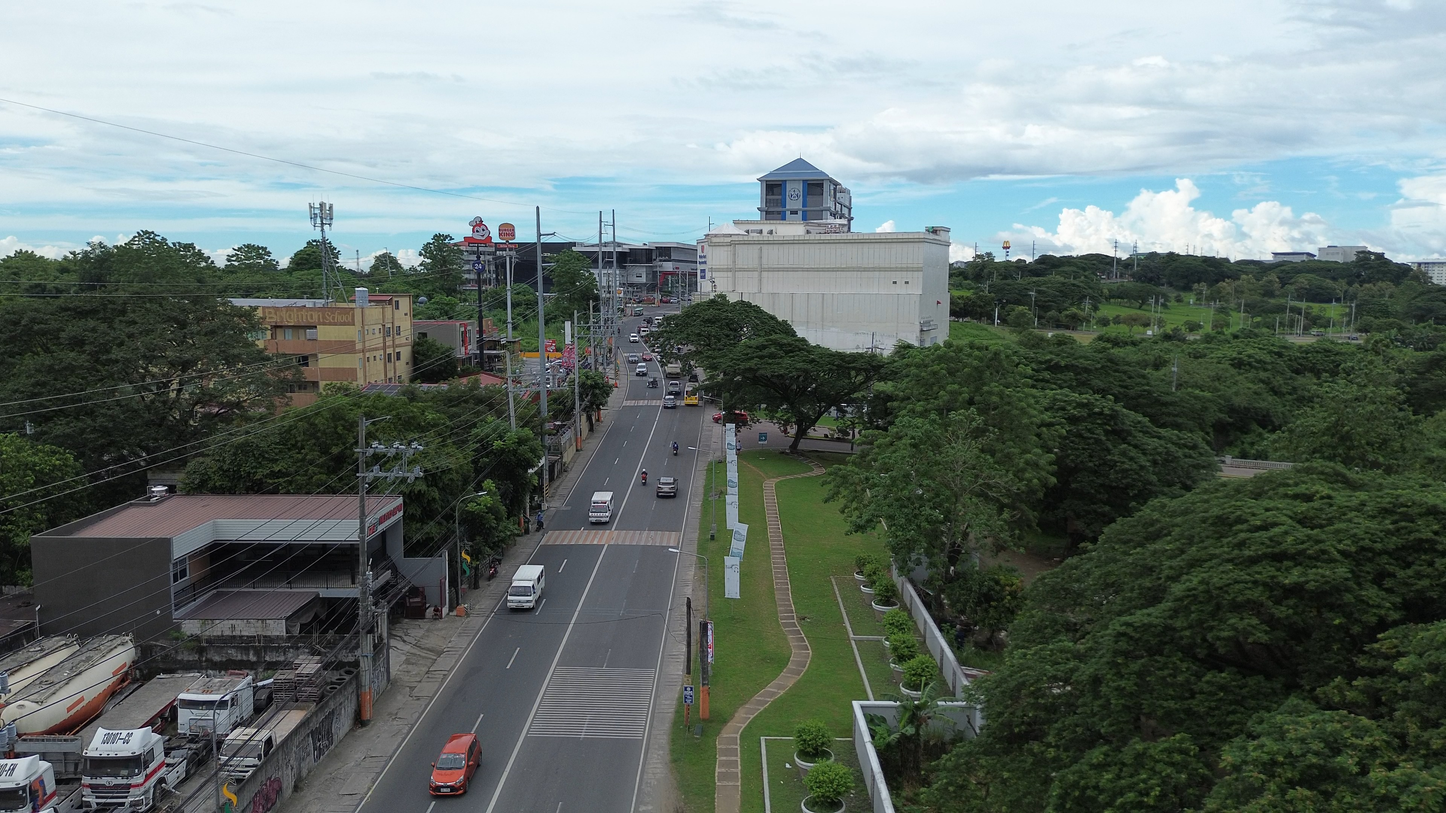car: (429, 734, 480, 795), (712, 411, 749, 424), (635, 364, 648, 376), (627, 353, 642, 363), (641, 352, 653, 361)
motorcycle: (672, 442, 679, 455), (641, 470, 647, 485)
truck: (220, 705, 312, 783)
vehicle: (0, 635, 136, 735), (83, 728, 188, 813), (178, 672, 254, 738), (0, 635, 79, 694), (0, 756, 81, 813), (220, 727, 276, 782), (507, 565, 545, 609), (590, 492, 613, 523), (712, 411, 749, 424), (656, 477, 677, 497), (683, 385, 699, 405), (665, 362, 681, 379), (662, 395, 677, 409), (667, 380, 682, 394), (627, 353, 642, 364), (687, 371, 699, 383), (647, 377, 658, 388), (629, 333, 640, 343), (672, 441, 679, 456), (632, 307, 643, 316), (641, 469, 647, 484)
